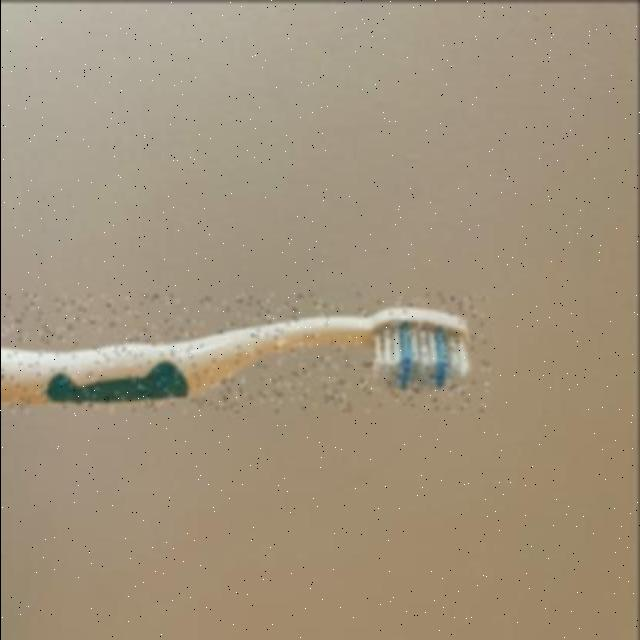toothbrush: (0, 293, 490, 411)
